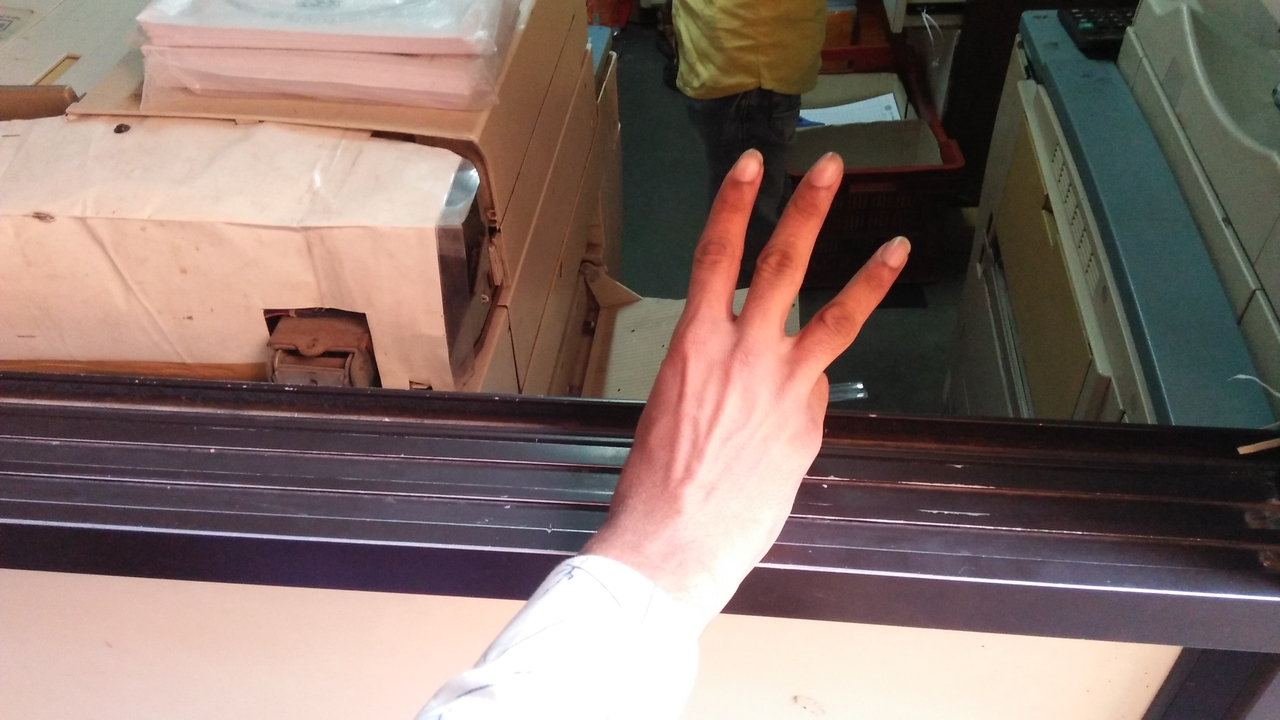fingertip: (794, 138, 858, 196), (714, 136, 778, 192), (856, 224, 920, 278)
